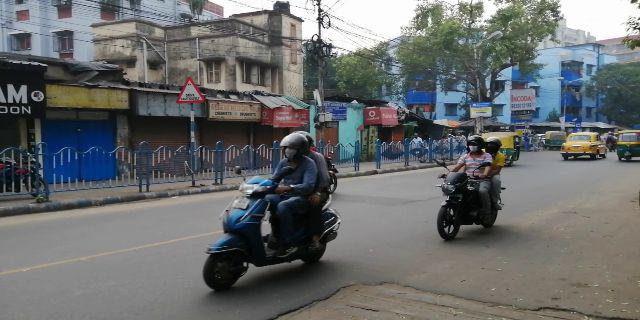Autorickshaw: (492, 130, 520, 170), (612, 125, 640, 165)
Car: (563, 133, 601, 160)
Motorbike: (199, 133, 344, 288), (433, 132, 505, 239)
